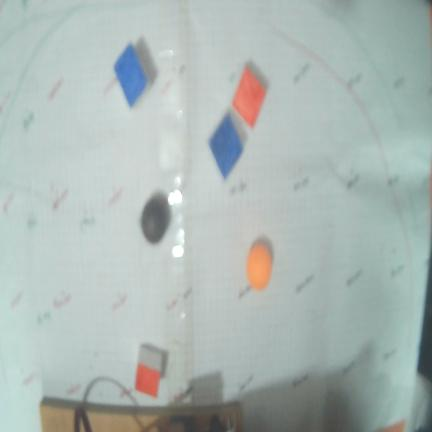circle_blue: (141, 193, 170, 243)
circle_orange: (246, 243, 272, 289)
rectangle_blue: (114, 44, 148, 106)
rectangle_orange: (135, 362, 160, 397)
square_blue: (209, 113, 243, 179)
square_orange: (232, 66, 266, 127)
